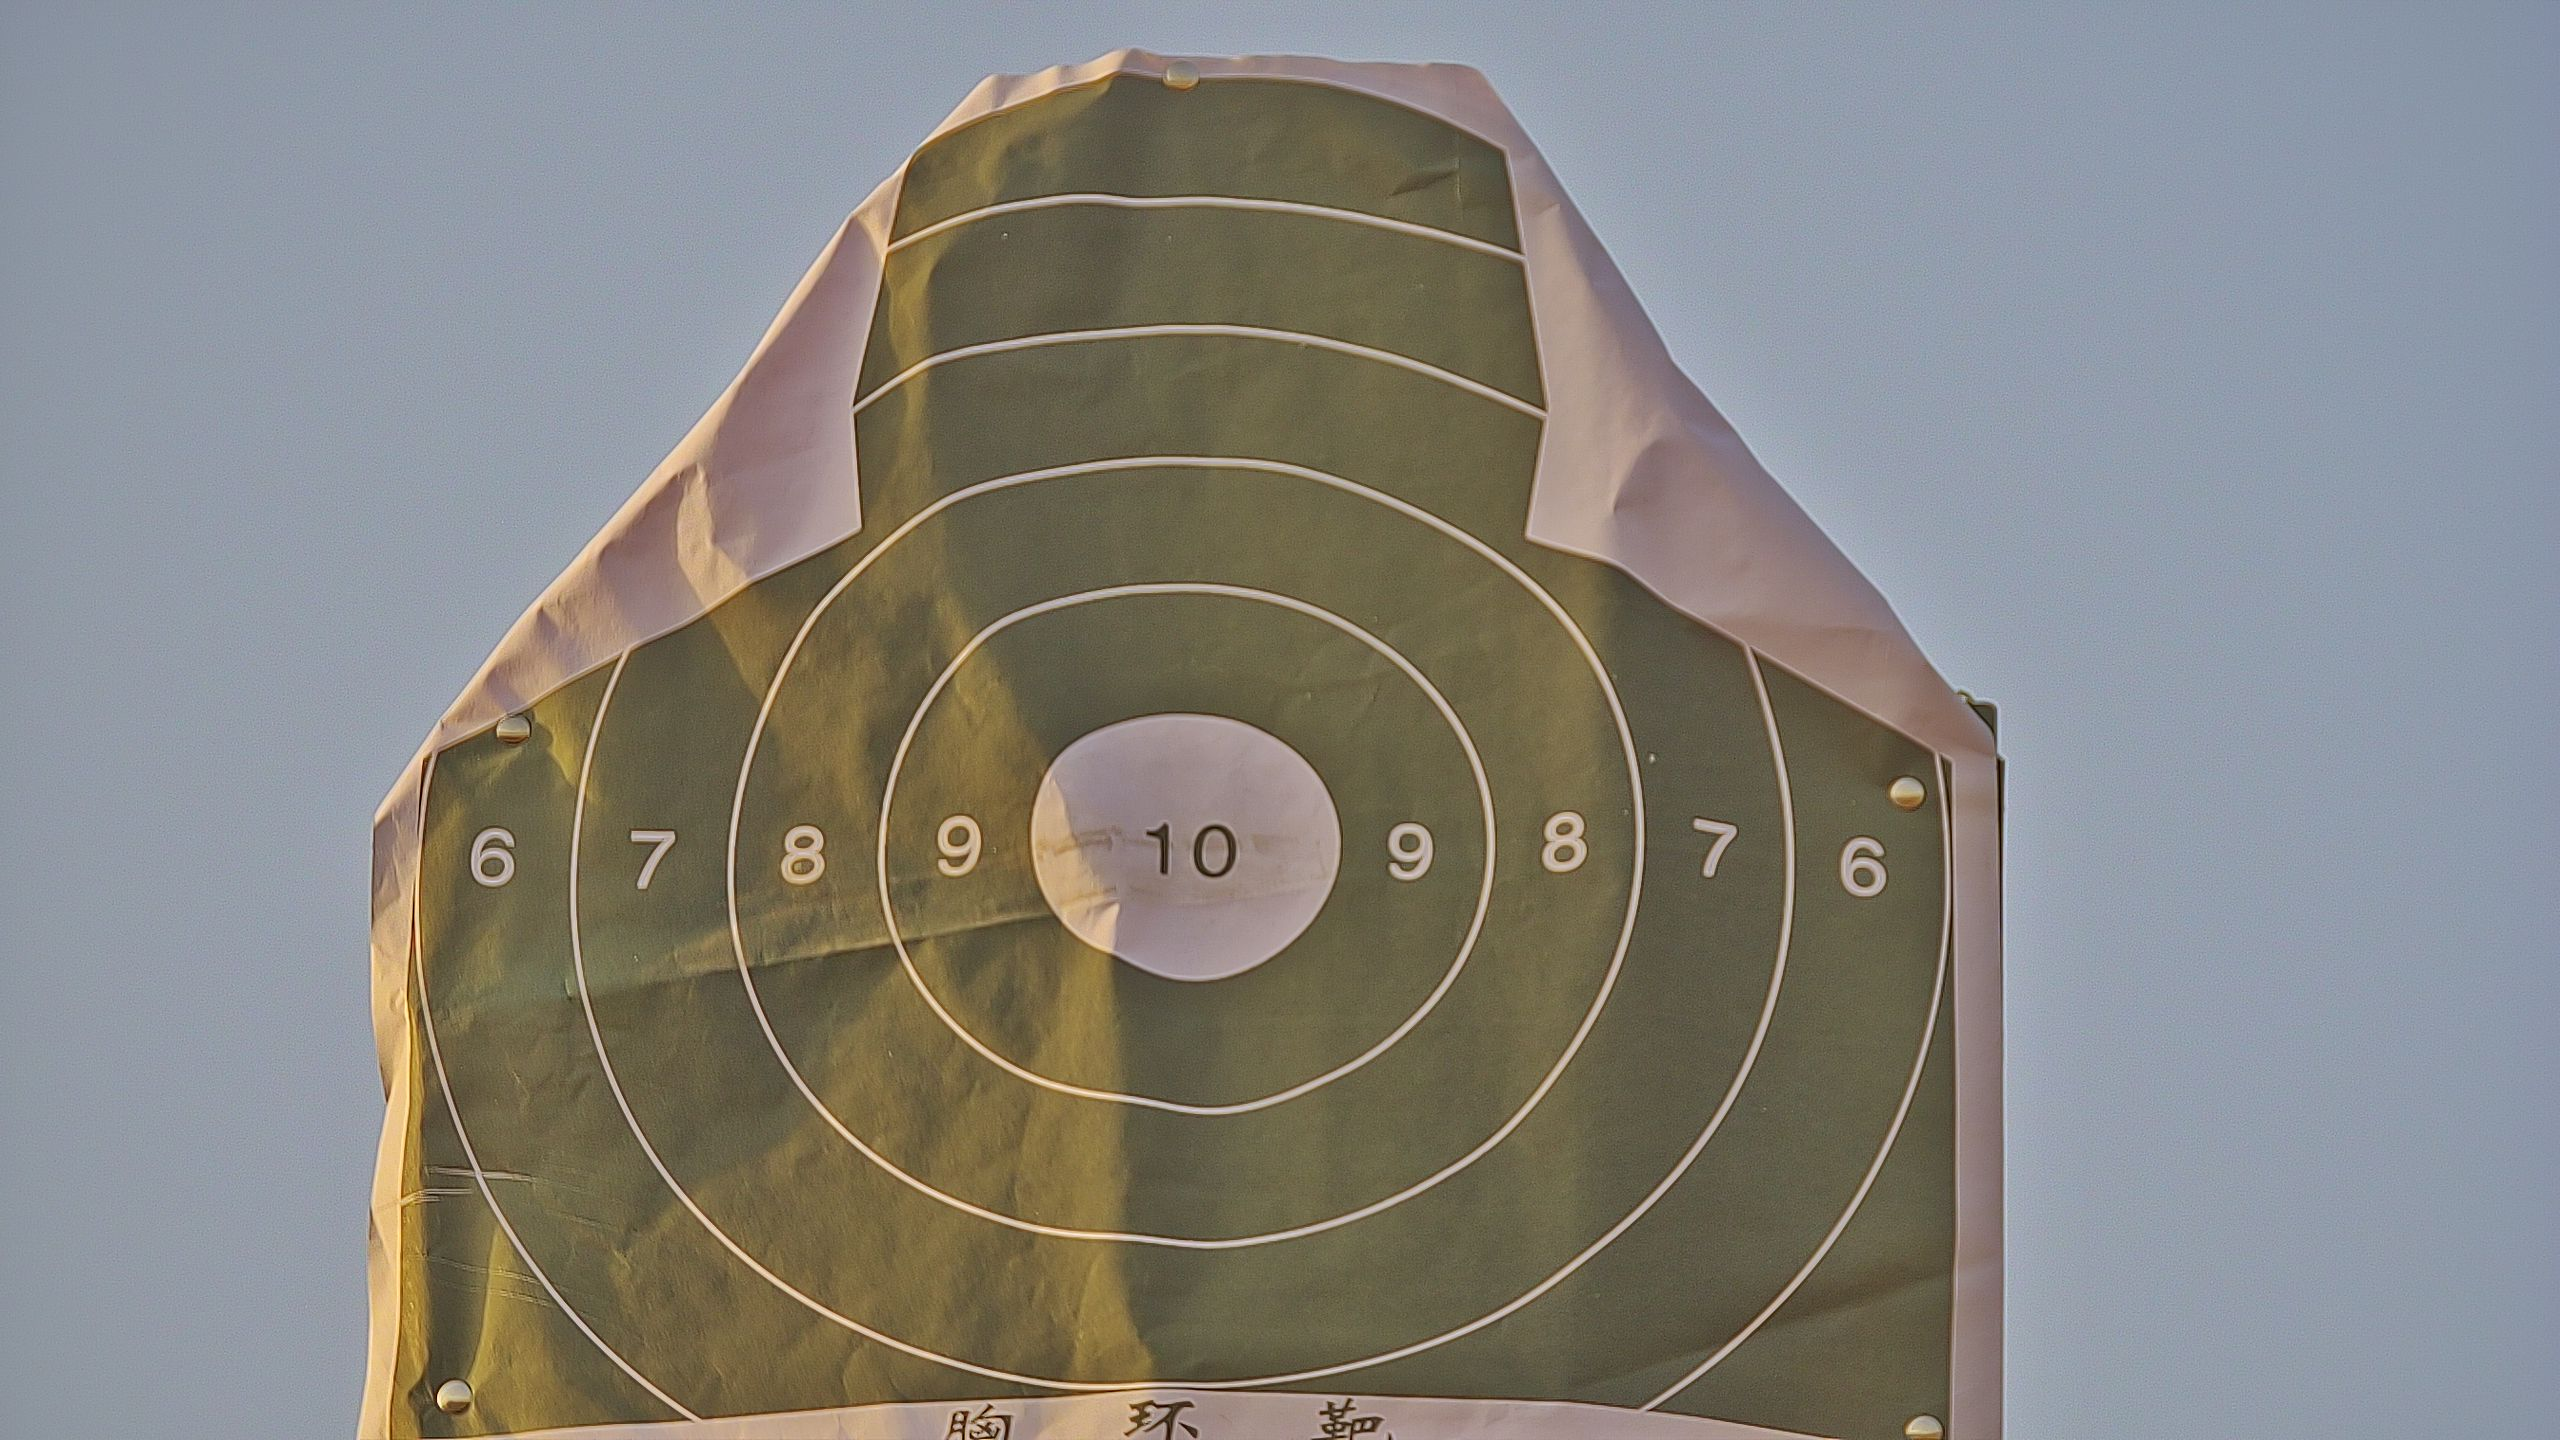kernel: (1176, 849, 1178, 851)
target: (390, 70, 1966, 1440)
ten: (1029, 707, 1342, 983)
